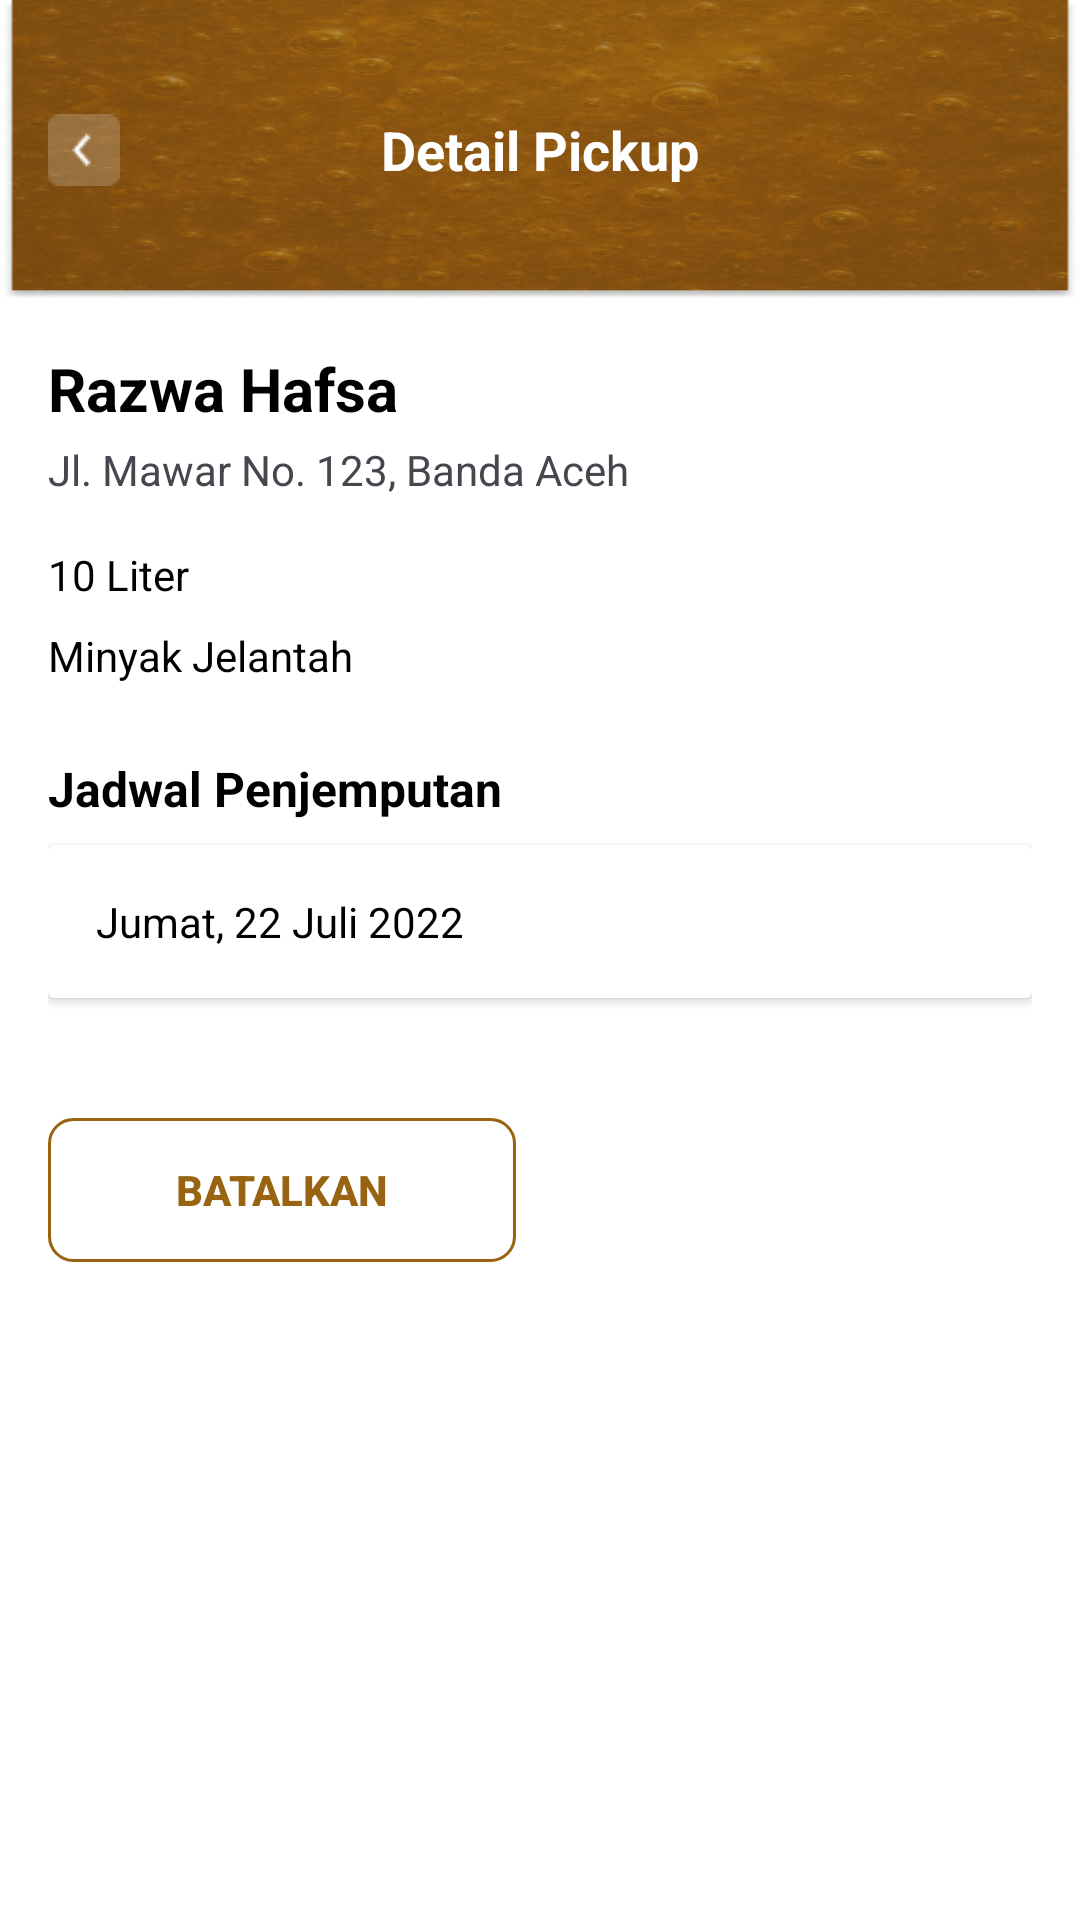

Icon click points for this 1080w x 1920h phone screenshot, format (x=x, y=y):
Back: (x=84, y=150)
